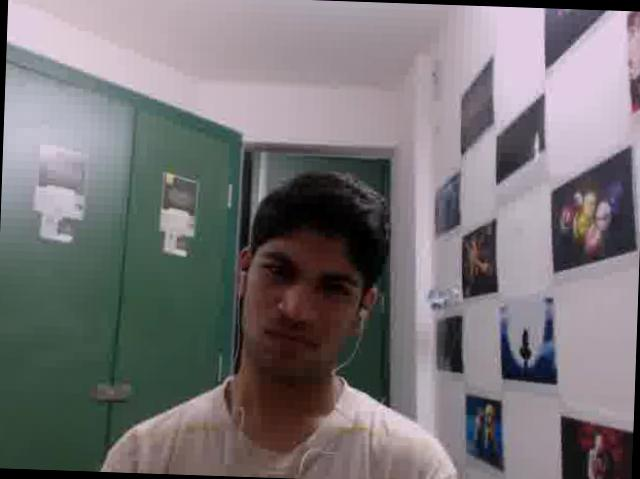bingung: (243, 224, 372, 378)
